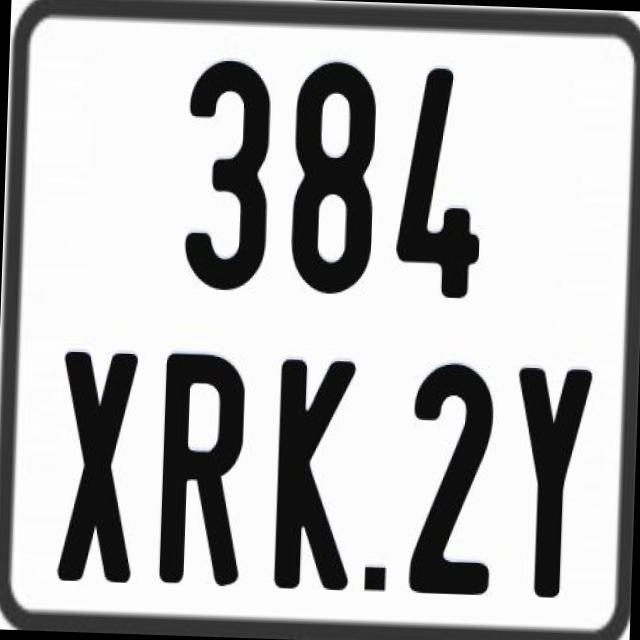2: (406, 356, 496, 592)
3: (183, 57, 274, 296)
4: (393, 65, 485, 297)
8: (288, 60, 378, 298)
K: (269, 357, 360, 592)
R: (159, 348, 250, 584)
X: (58, 348, 144, 581)
Y: (512, 367, 594, 608)
